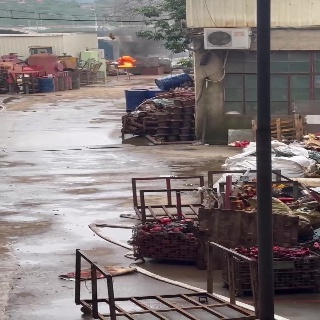fire: (117, 56, 136, 67)
